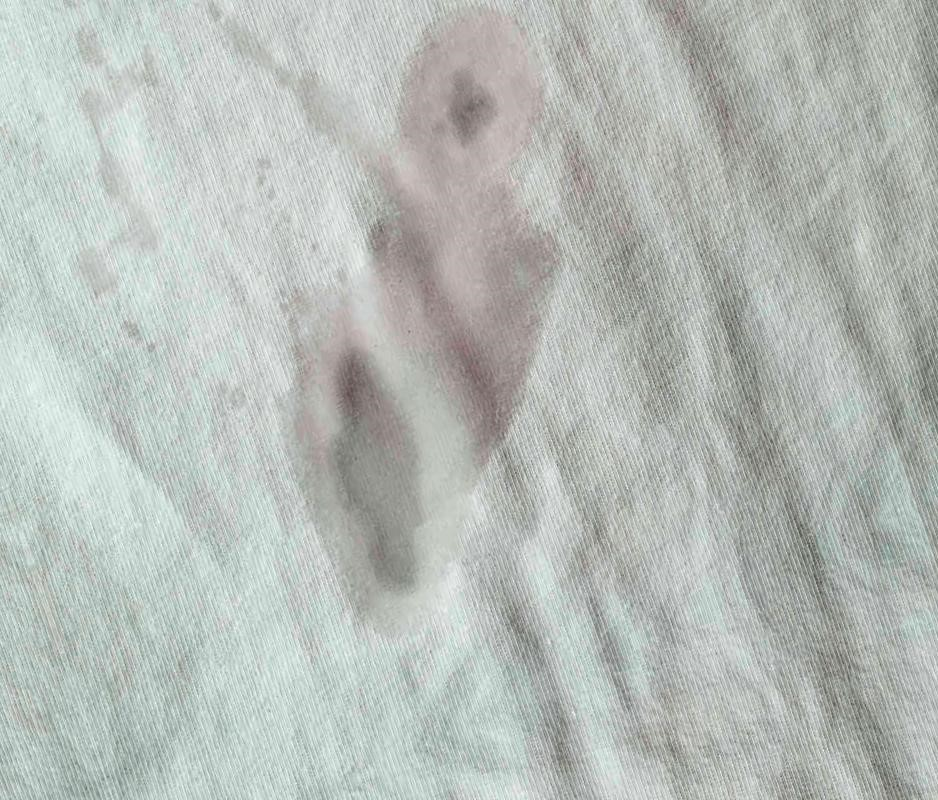stain: (284, 5, 583, 642)
